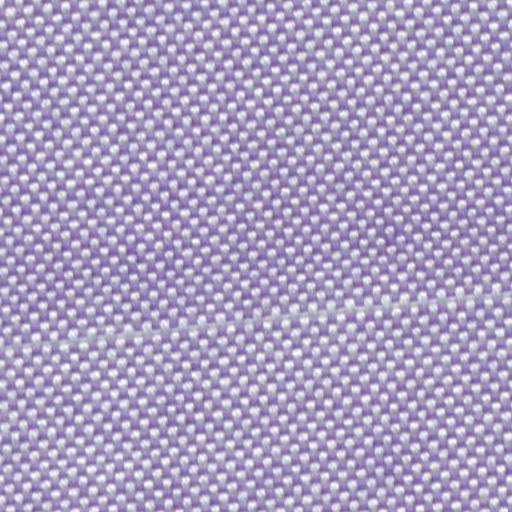TuoSha: (17, 279, 500, 366)
